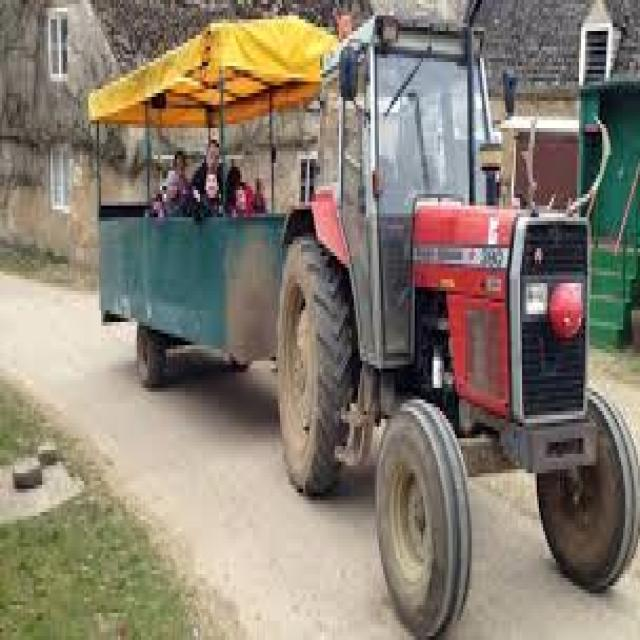person: (192, 140, 221, 221), (225, 167, 251, 217), (166, 167, 187, 217), (204, 163, 217, 213)
tractor: (101, 16, 636, 636)
